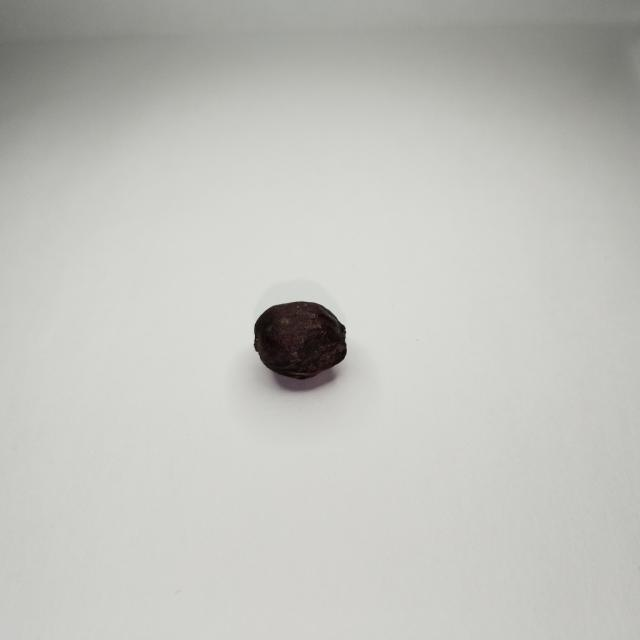Danado: (254, 301, 345, 379)
